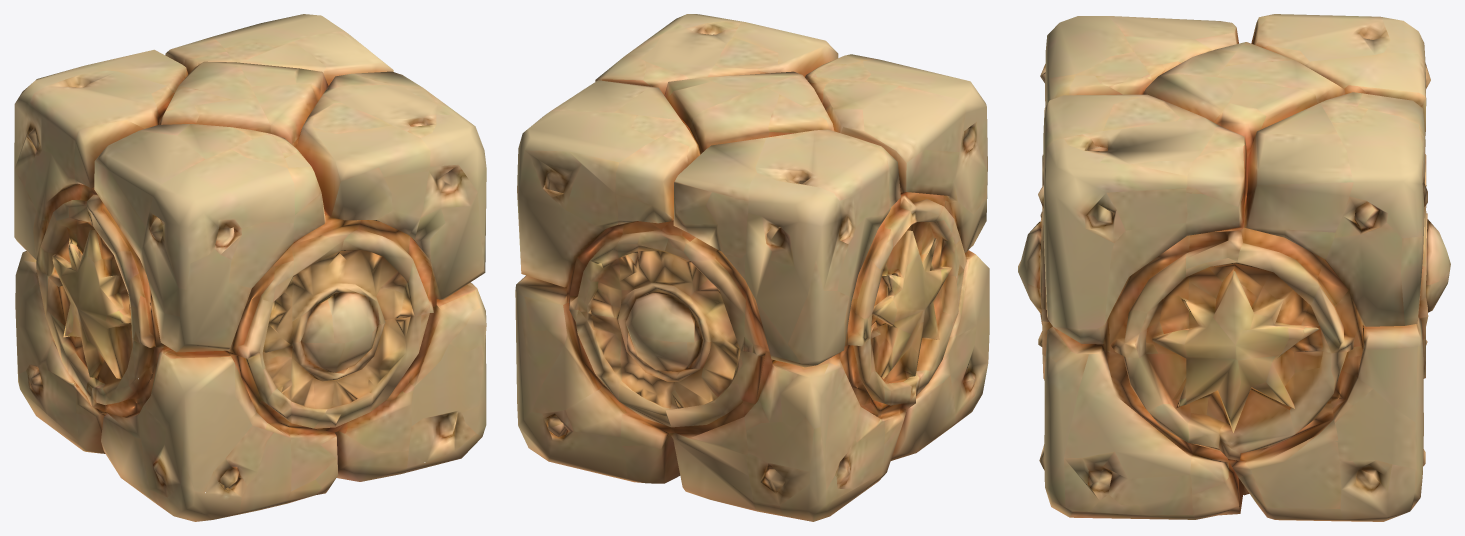
The model's file is golden.glb.
The picture shows the model from 3 angles, left to right: view 1: azimuth 30°, elevation 25°; view 2: azimuth 150°, elevation 25°; view 3: azimuth 270°, elevation 25°; orthographic projection. The views are drawn at different scales.
Parts seen in each view (by area): view 1: tripo_node_448d80d6-d9c6-42aa-84aa-194504611772; view 2: tripo_node_448d80d6-d9c6-42aa-84aa-194504611772; view 3: tripo_node_448d80d6-d9c6-42aa-84aa-194504611772.
Boxes of the visible parts, box(x1,y1,x2,y2) form: tripo_node_448d80d6-d9c6-42aa-84aa-194504611772: box(14, 14, 486, 521); tripo_node_448d80d6-d9c6-42aa-84aa-194504611772: box(515, 14, 989, 521); tripo_node_448d80d6-d9c6-42aa-84aa-194504611772: box(1018, 14, 1450, 521).
Size of the model in its own units: 0.9727 by 0.9493 by 0.9781.
1 material, 1 textured.
